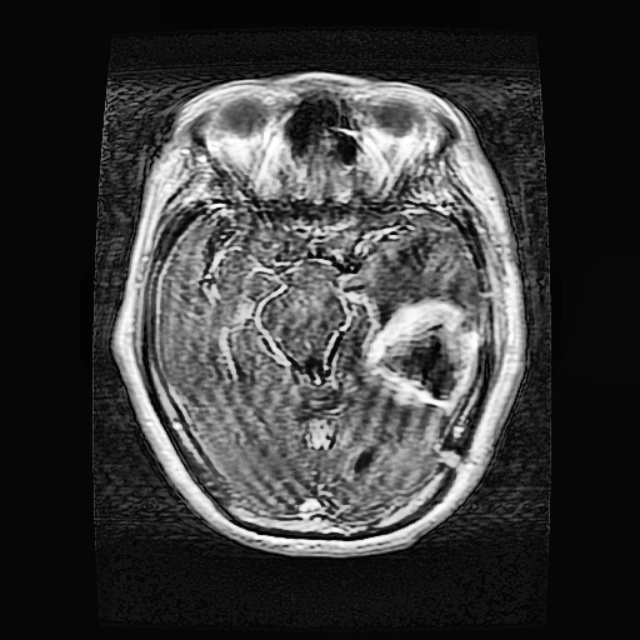Glioma: (367, 293, 480, 409)
